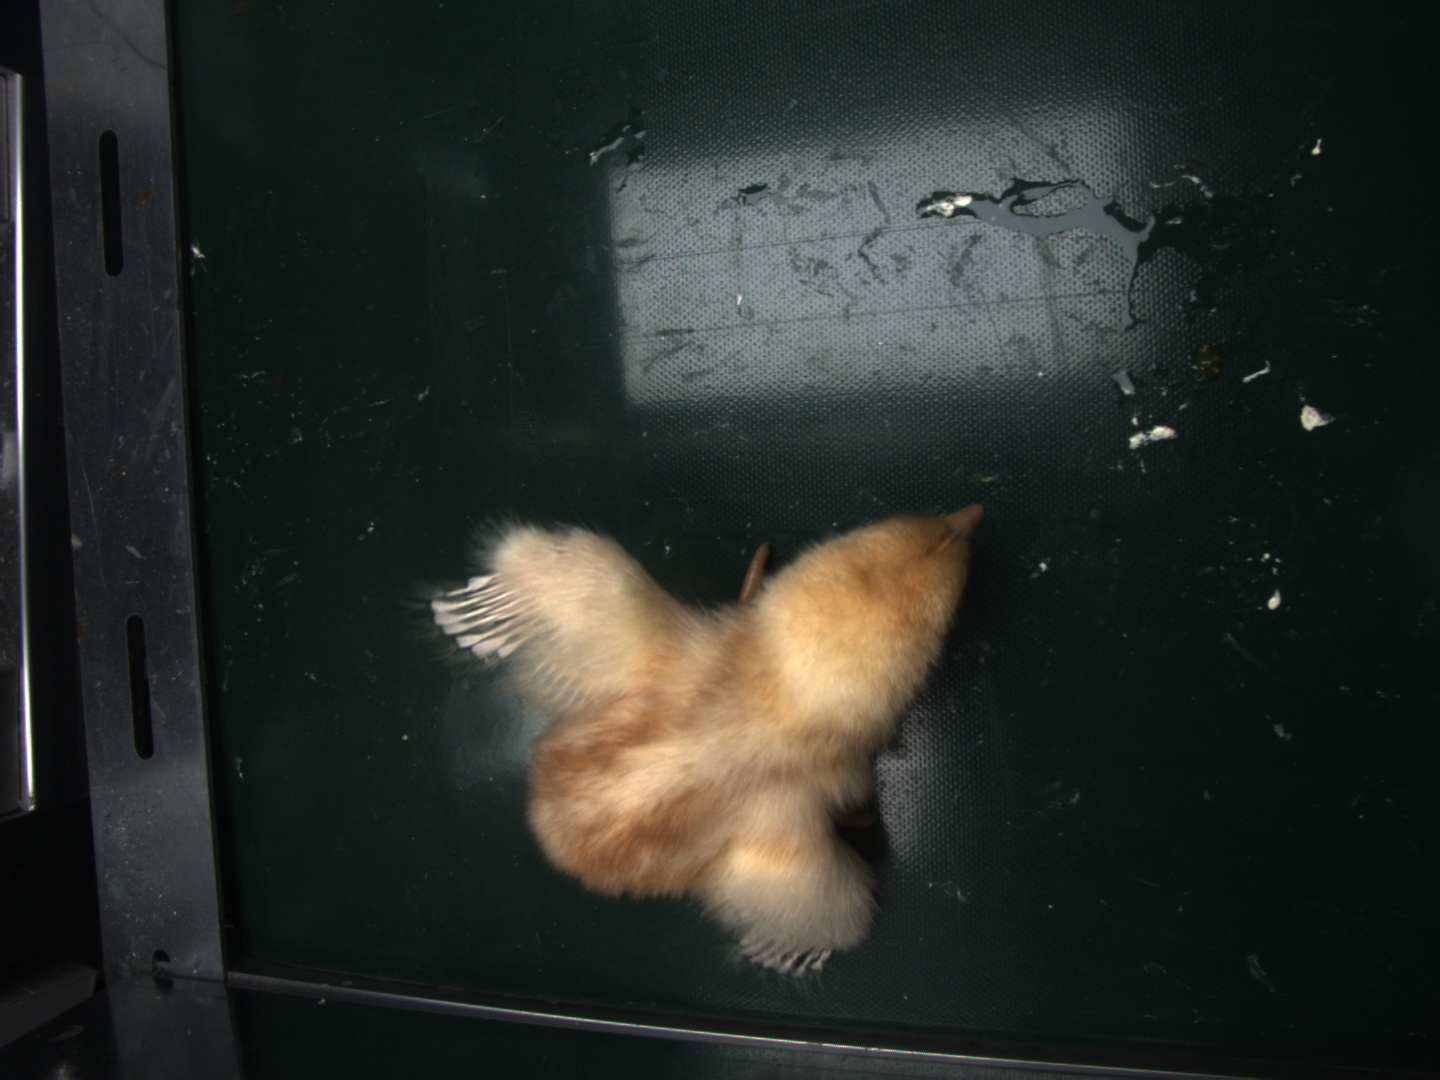female: (432, 575, 533, 658)
